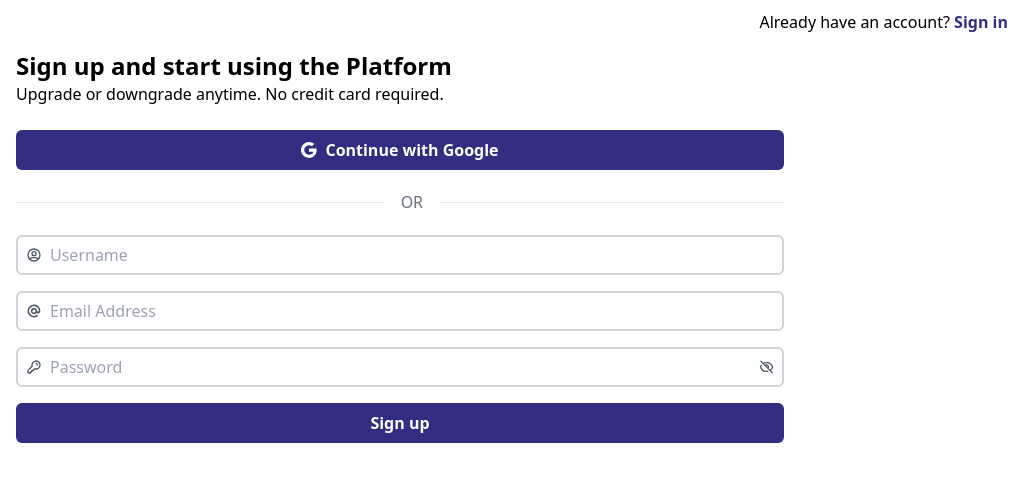
Test case: shows error
The width and height of the screenshot is (1024, 504).
Type "test" into the field with test id "username" at [412, 255], box [50,237,774,273]
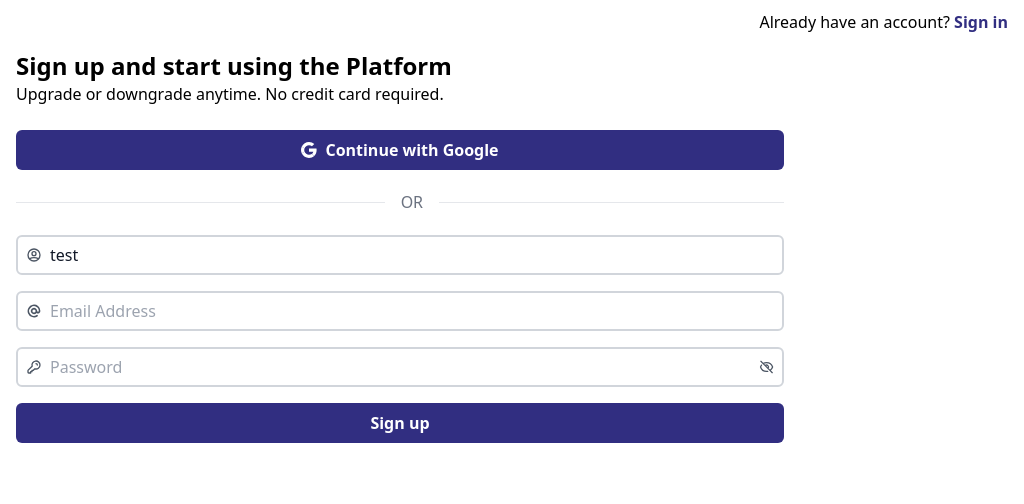
Type "test@test.com" into the field with test id "email" at [412, 311], box [50,293,774,329]
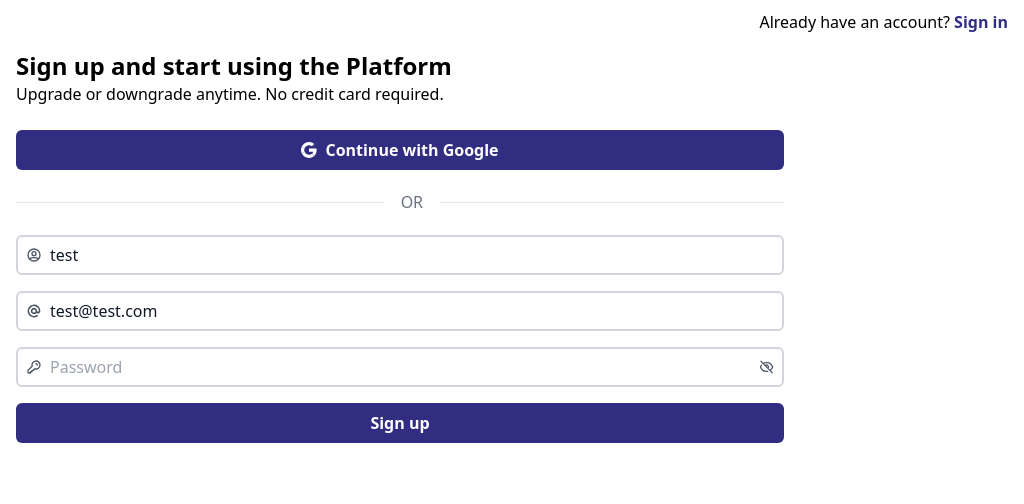
Type "test1234" into the password field with test id "password" at [404, 367], box [50,349,759,385]
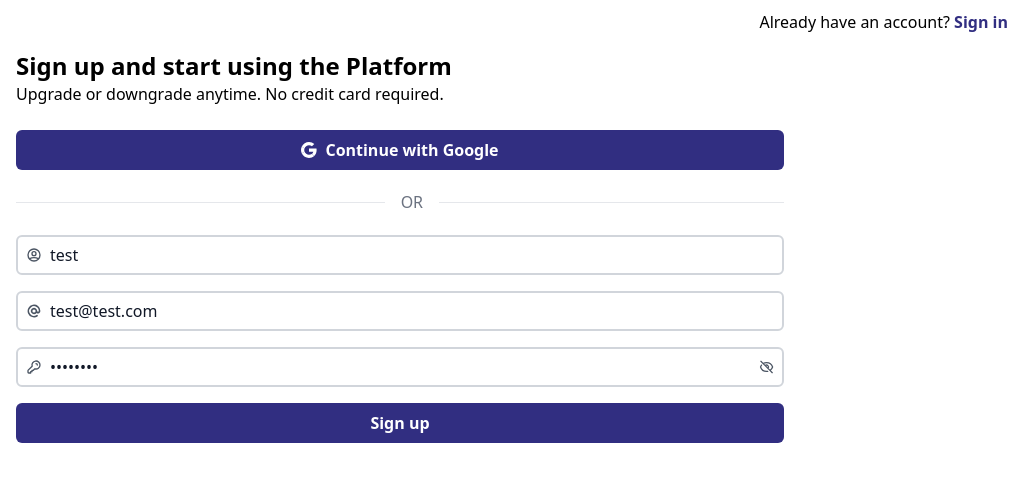
Click the button with test id "submit" at [400, 423], box [16,403,784,443]
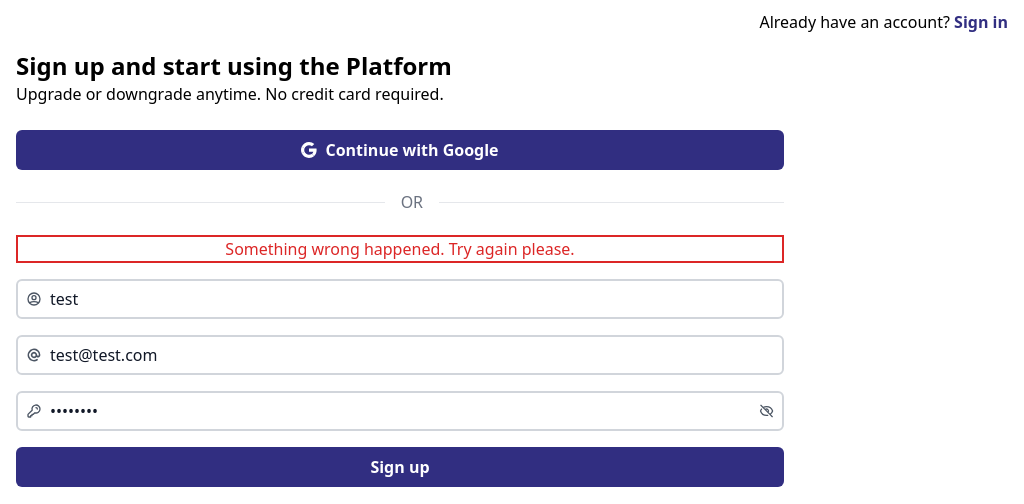
Result: the text "Something wrong happened. Try again please." is shown at [16,235,784,263]
Result: the text with test id "error" reads "Something wrong happened. Try again please." at [225,238,575,260]
